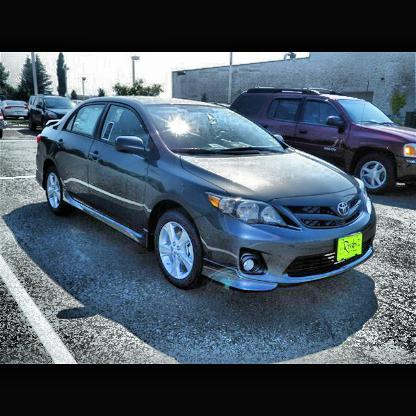Toyota Corolla Sedan 2012: (30, 88, 384, 306)
